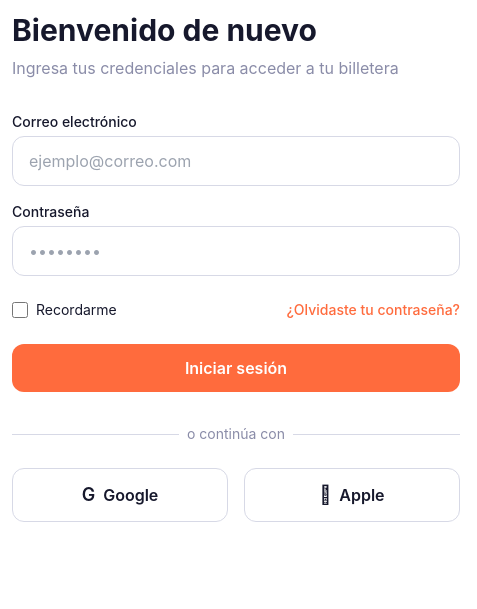
LoginForm Integration › should show error message on failed login (valid format but wrong credentials)
Type "wrong@example.com" into the field labelled "Correo electrónico".
click(236, 161); type("wrong@example.com")  # box [12,136,460,186]
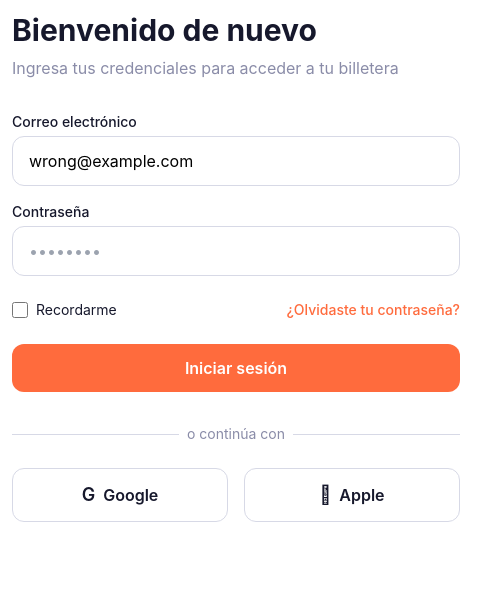
Type "wrongpassword" into the password field labelled "Contraseña".
click(236, 251); type("wrongpassword")  # box [12,226,460,276]
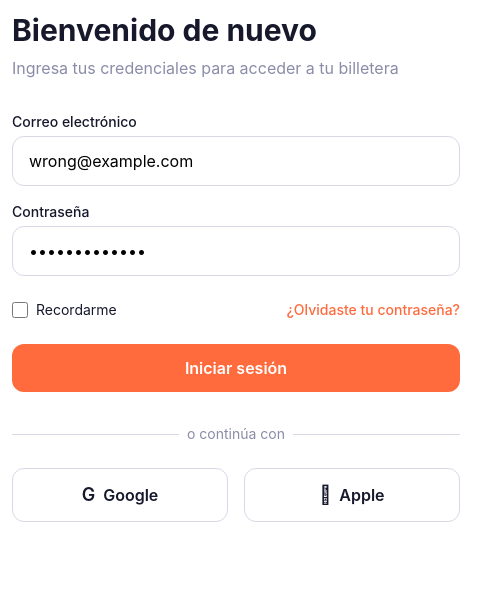
Click the button "Iniciar sesión".
click(236, 368)  # box [12,344,460,392]
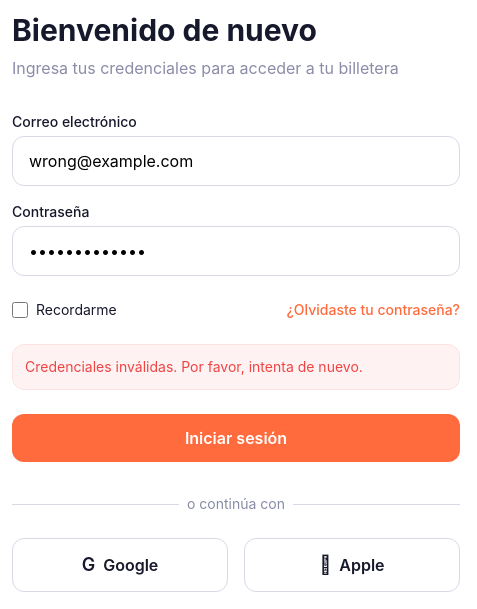
Expected: the text "Credenciales inválidas. Por favor, intenta de nuevo." is shown, [12,344,460,390]
